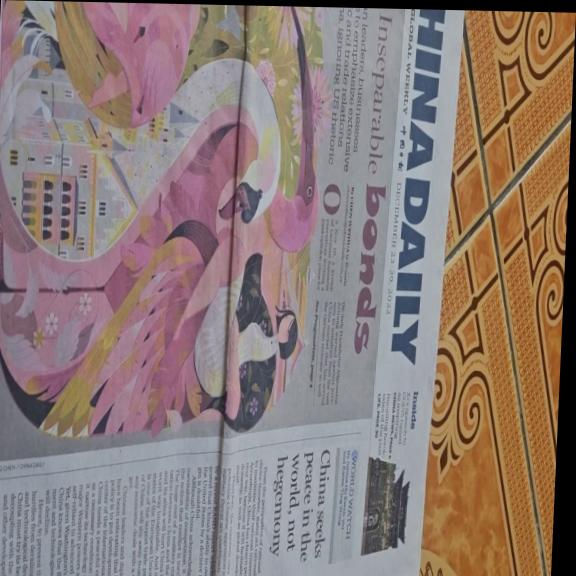Kertas: (0, 4, 435, 576)
